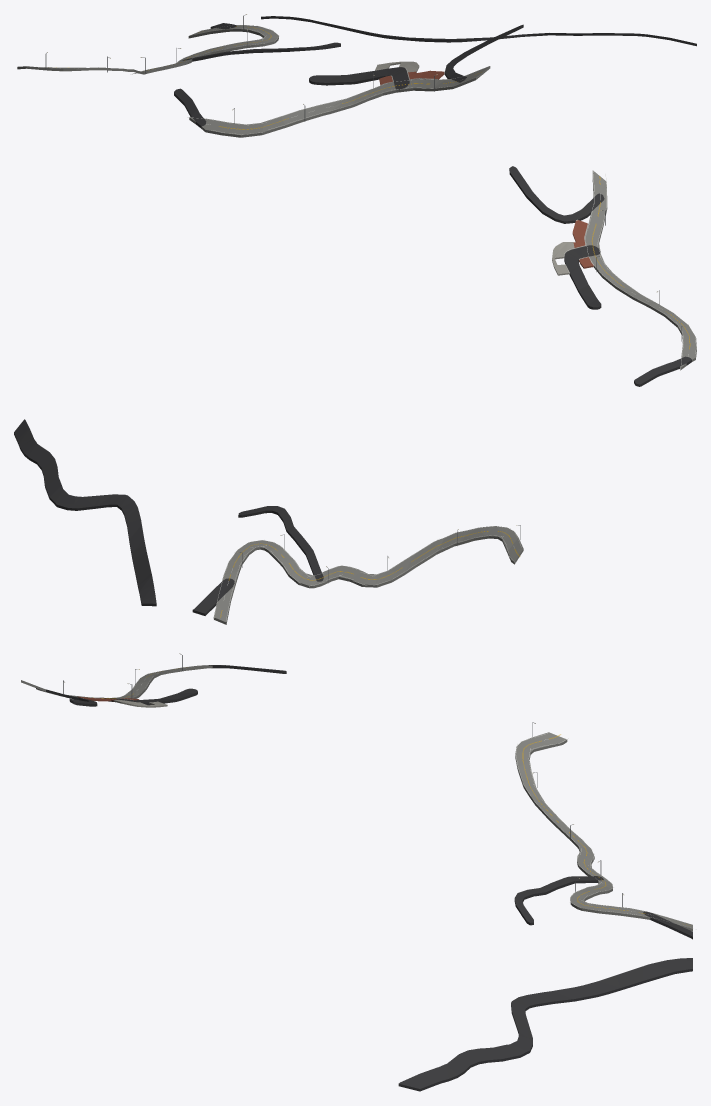
Rendered from 17-109452-59453.97adfce6.glb.
The picture shows the model from 3 angles, top to bottom: view 1: azimuth 30°, elevation 25°; view 2: azimuth 150°, elevation 25°; view 3: azimuth 270°, elevation 25°; orthographic projection. The views are drawn at different scales.
Size of the model in its own units: 295 by 114 by 296.
